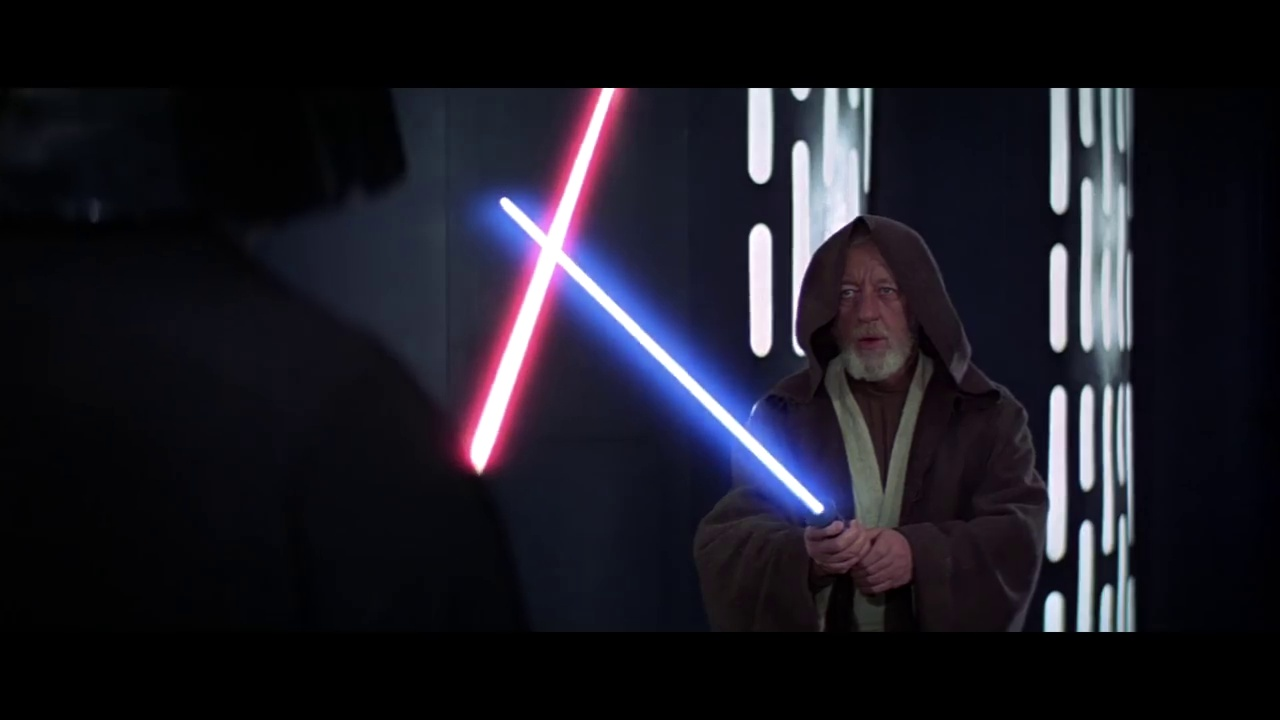lightsaber: (420, 95, 859, 556)
